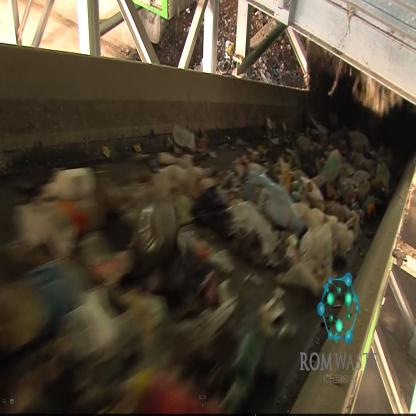Glass Bottle: (244, 172, 308, 240), (338, 172, 356, 207)
